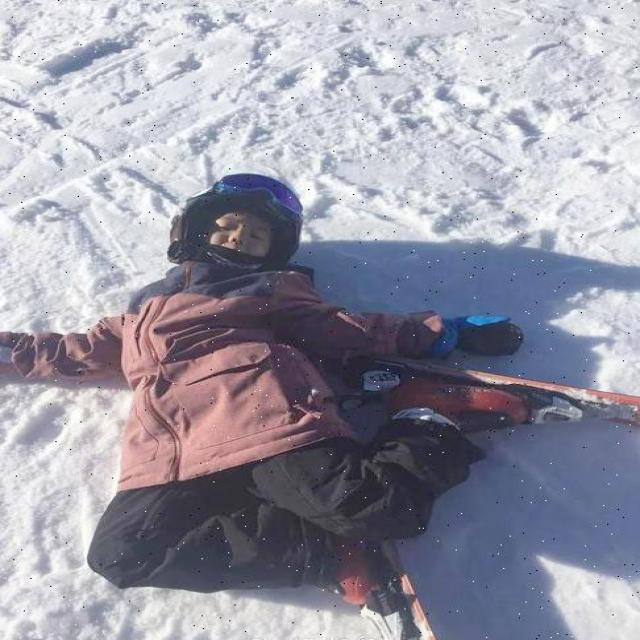fall: (52, 178, 488, 610)
